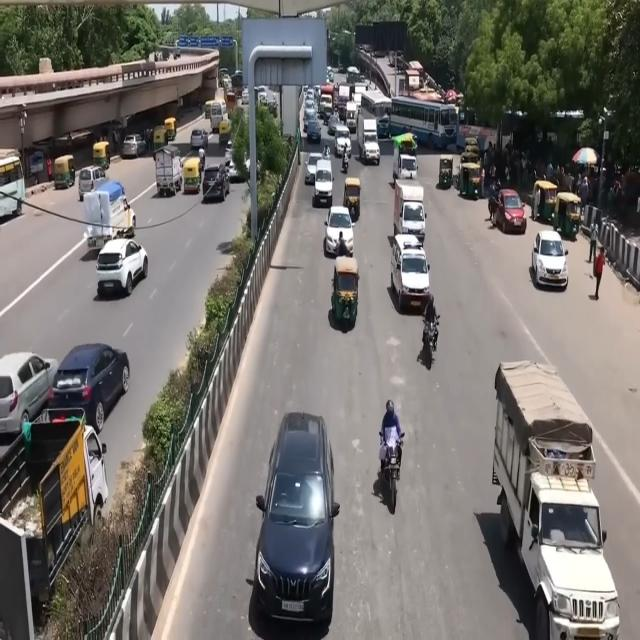auto: (324, 258, 370, 346), (462, 156, 494, 203), (554, 191, 583, 240), (180, 150, 204, 198), (53, 154, 76, 190), (343, 177, 361, 221), (463, 165, 484, 201), (437, 156, 454, 190), (210, 100, 227, 132), (92, 141, 110, 171), (153, 125, 168, 151), (218, 118, 231, 144), (164, 117, 177, 143), (204, 100, 214, 120)
bike-auto: (374, 394, 412, 516), (417, 290, 445, 381), (341, 148, 349, 174)
